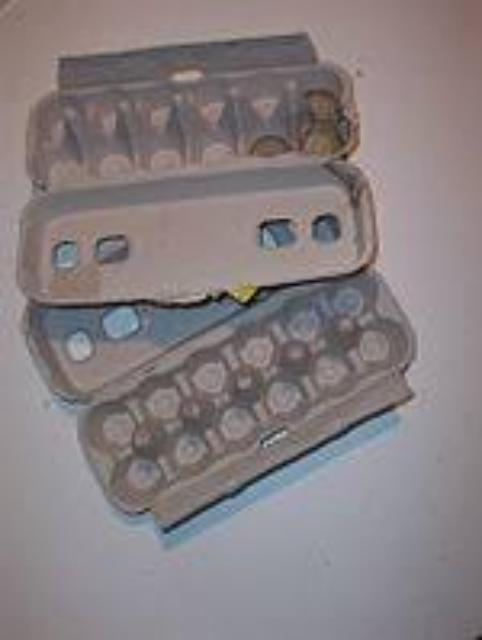cardboard paper: (16, 32, 408, 521)
